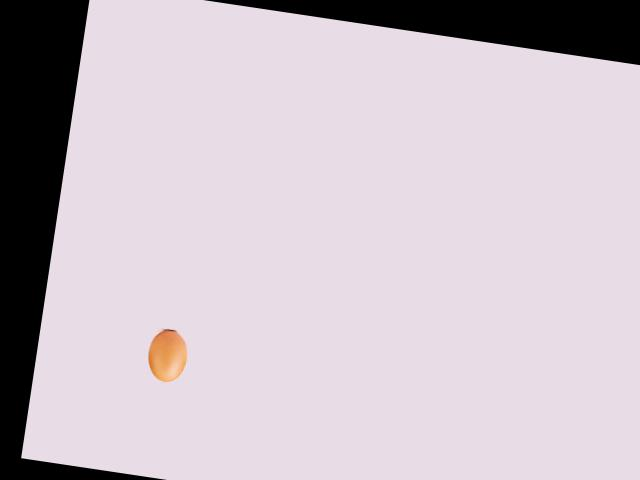egg: (144, 326, 189, 384)
